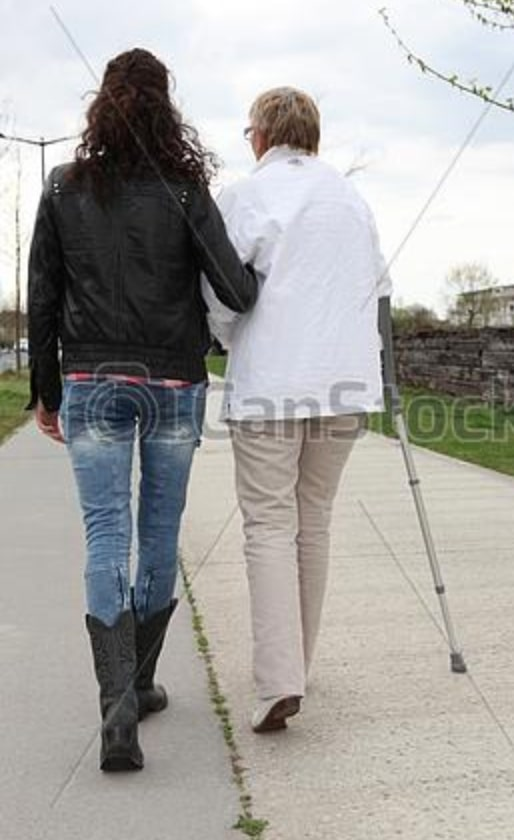Bad: (26, 45, 399, 775)
